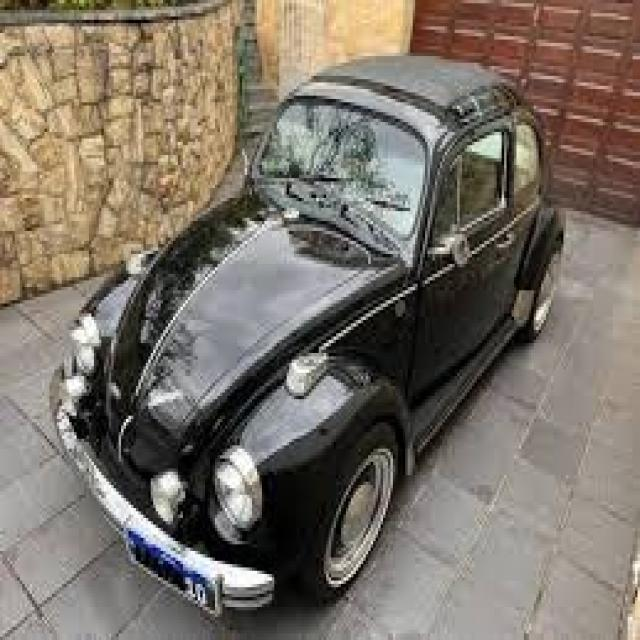cars: (61, 48, 572, 590)
